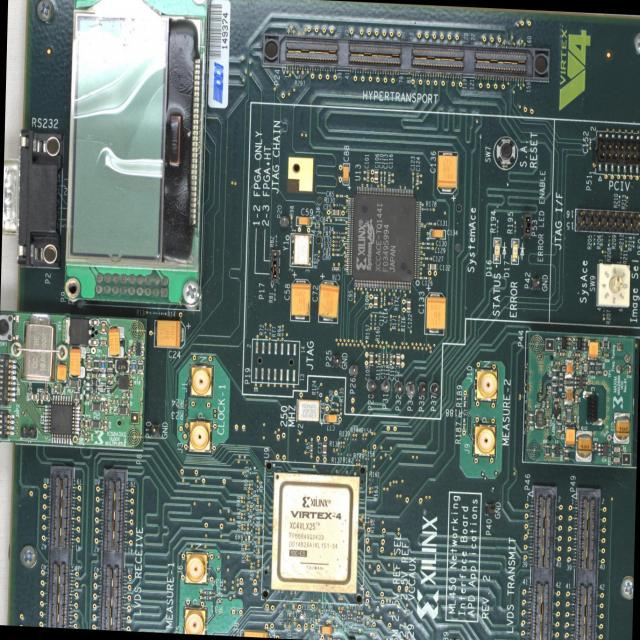Button: (493, 135, 518, 170), (0, 312, 20, 342)
Capacitor Jumper: (581, 360, 588, 374), (85, 357, 92, 371), (611, 445, 621, 454), (611, 455, 621, 464), (100, 320, 106, 334), (368, 352, 374, 366), (428, 262, 438, 270), (29, 392, 39, 400), (40, 393, 49, 401), (373, 294, 378, 308), (406, 298, 411, 312), (330, 209, 340, 216), (626, 363, 632, 374), (602, 350, 609, 358), (396, 353, 400, 367), (90, 372, 98, 379), (122, 391, 130, 398), (121, 398, 129, 405), (374, 168, 378, 182), (572, 413, 577, 424), (103, 419, 108, 430), (331, 265, 340, 271), (322, 442, 326, 455), (574, 360, 579, 370), (573, 394, 578, 404), (53, 383, 58, 393), (104, 402, 109, 412), (592, 441, 597, 451), (558, 350, 565, 357), (553, 360, 561, 366), (552, 396, 560, 402), (309, 442, 313, 454), (127, 347, 131, 358), (415, 173, 419, 184), (100, 340, 107, 346), (90, 394, 97, 400), (107, 374, 111, 384), (545, 399, 549, 409), (545, 417, 549, 427), (84, 418, 88, 428), (84, 431, 88, 441), (574, 351, 580, 357), (389, 353, 392, 365), (387, 171, 390, 183), (366, 169, 369, 180), (568, 379, 574, 384), (58, 387, 62, 394), (558, 376, 563, 381), (378, 353, 380, 364), (353, 291, 356, 298), (379, 296, 382, 303), (385, 352, 388, 359), (382, 352, 385, 359), (80, 428, 83, 435), (320, 608, 323, 615), (411, 175, 414, 182), (379, 175, 382, 182), (338, 217, 343, 221), (425, 245, 430, 249), (335, 247, 340, 251), (335, 252, 340, 256), (558, 382, 562, 387), (330, 401, 335, 405), (80, 418, 83, 424), (428, 221, 432, 225), (426, 241, 430, 245), (424, 256, 428, 260), (332, 608, 334, 616), (329, 407, 334, 410), (352, 610, 357, 613), (279, 635, 284, 638), (338, 194, 343, 197), (314, 221, 316, 228), (318, 221, 320, 228), (383, 175, 385, 182), (336, 235, 340, 238), (384, 295, 386, 301), (346, 609, 350, 612), (423, 276, 428, 278), (338, 610, 343, 612)
Clock: (19, 312, 56, 392), (290, 232, 314, 268), (296, 398, 321, 422)
Connector: (261, 32, 551, 82), (1, 127, 64, 271), (44, 464, 74, 628), (99, 467, 128, 630), (571, 486, 601, 640), (528, 484, 557, 640), (590, 178, 640, 228), (574, 208, 639, 235), (188, 362, 214, 398), (471, 422, 497, 458), (187, 418, 213, 453), (184, 550, 210, 585), (474, 368, 498, 402), (182, 604, 208, 635), (20, 425, 37, 439), (485, 504, 496, 519), (366, 378, 377, 392), (380, 378, 390, 393), (349, 363, 359, 377), (417, 381, 427, 395), (393, 380, 403, 394), (429, 382, 439, 396), (405, 380, 414, 395), (530, 277, 540, 290), (332, 354, 341, 368), (279, 216, 289, 228), (151, 424, 160, 437), (271, 249, 280, 258), (589, 137, 591, 144)
EM: (67, 378, 81, 388), (89, 402, 103, 412), (116, 404, 129, 414), (89, 418, 102, 428), (565, 406, 571, 425)
Electrolytic Capacitor: (423, 291, 446, 335), (317, 279, 339, 324), (436, 150, 458, 194), (154, 319, 186, 349), (290, 278, 311, 322), (68, 345, 86, 379), (107, 324, 124, 358), (613, 412, 630, 445), (575, 430, 592, 462), (239, 628, 272, 638), (587, 338, 598, 359), (56, 361, 67, 382), (564, 426, 575, 446), (322, 413, 340, 424), (295, 215, 312, 226), (342, 162, 350, 185), (319, 624, 336, 634)
IC: (260, 460, 366, 605), (346, 186, 420, 290), (44, 394, 80, 444), (572, 336, 586, 350), (557, 335, 570, 349), (574, 375, 587, 389), (598, 442, 610, 457), (118, 375, 129, 390)
Inductor: (582, 390, 602, 426), (114, 358, 130, 372), (564, 358, 574, 379), (534, 408, 544, 429), (564, 385, 574, 405)
Jumper: (270, 257, 280, 284), (521, 213, 531, 239), (449, 637, 460, 640)
Led: (492, 236, 501, 264), (510, 238, 519, 264)
Pads: (250, 338, 300, 385), (202, 589, 212, 600), (85, 376, 90, 386), (85, 387, 90, 397), (100, 372, 106, 378), (463, 395, 466, 407), (462, 418, 465, 430), (100, 395, 105, 401), (252, 548, 255, 557), (252, 560, 255, 569), (273, 292, 276, 300), (256, 484, 259, 492), (242, 496, 245, 504), (252, 502, 255, 510), (252, 512, 255, 520), (243, 512, 246, 520), (243, 523, 246, 531), (250, 528, 253, 536), (251, 536, 254, 544), (248, 554, 251, 562), (294, 602, 297, 610), (300, 610, 306, 614), (295, 617, 298, 625), (254, 527, 257, 534), (244, 535, 250, 538), (248, 542, 250, 551), (314, 614, 320, 617), (150, 310, 154, 314), (281, 328, 283, 336), (249, 466, 251, 474), (252, 520, 254, 528), (632, 240, 634, 247), (251, 483, 253, 490), (250, 492, 252, 499)
Pins: (94, 271, 170, 299), (615, 341, 631, 375)
Resistor: (130, 359, 137, 374), (92, 357, 99, 371), (527, 412, 534, 426), (73, 388, 79, 403), (563, 446, 569, 461), (596, 361, 602, 375), (106, 358, 112, 372), (551, 381, 557, 395), (600, 340, 610, 348), (552, 367, 558, 380), (100, 358, 106, 371), (137, 360, 143, 373), (556, 421, 562, 434), (544, 443, 550, 456), (589, 360, 594, 375), (99, 382, 106, 392), (90, 380, 97, 386), (90, 387, 96, 393), (184, 398, 188, 406), (390, 297, 393, 305), (602, 308, 605, 316), (397, 318, 400, 326), (389, 318, 392, 326), (335, 202, 341, 206), (289, 220, 292, 227), (373, 318, 376, 325), (184, 409, 187, 416), (343, 436, 348, 440), (337, 451, 342, 455), (346, 452, 351, 456), (355, 457, 360, 461), (369, 318, 372, 324), (371, 486, 374, 492), (336, 230, 340, 234), (336, 239, 340, 243), (318, 254, 320, 262), (158, 311, 162, 315), (356, 614, 360, 618), (356, 618, 360, 622), (335, 243, 340, 246), (361, 436, 366, 439), (364, 457, 369, 460), (325, 608, 330, 611), (341, 613, 346, 616), (426, 207, 431, 210), (514, 225, 516, 232), (496, 225, 498, 232), (604, 250, 606, 257), (620, 252, 622, 259), (316, 387, 318, 394), (464, 409, 466, 416), (368, 516, 370, 523), (213, 591, 215, 598), (350, 613, 352, 620), (618, 200, 620, 207), (601, 234, 603, 240), (593, 234, 595, 240), (608, 234, 610, 240), (275, 240, 277, 246), (269, 328, 271, 334), (339, 404, 341, 410), (340, 445, 344, 448), (288, 618, 290, 624), (264, 328, 266, 333), (368, 478, 373, 480), (341, 617, 346, 619), (352, 438, 356, 440), (625, 236, 626, 242), (348, 613, 349, 619), (284, 617, 285, 623), (626, 201, 627, 207)
Switch: (0, 352, 17, 408), (0, 406, 15, 441)
Test Point: (286, 155, 312, 193), (602, 368, 608, 377), (72, 434, 78, 443), (606, 433, 612, 441), (91, 346, 96, 354)
Transistor: (62, 315, 100, 346), (132, 341, 144, 356), (551, 443, 562, 458)
